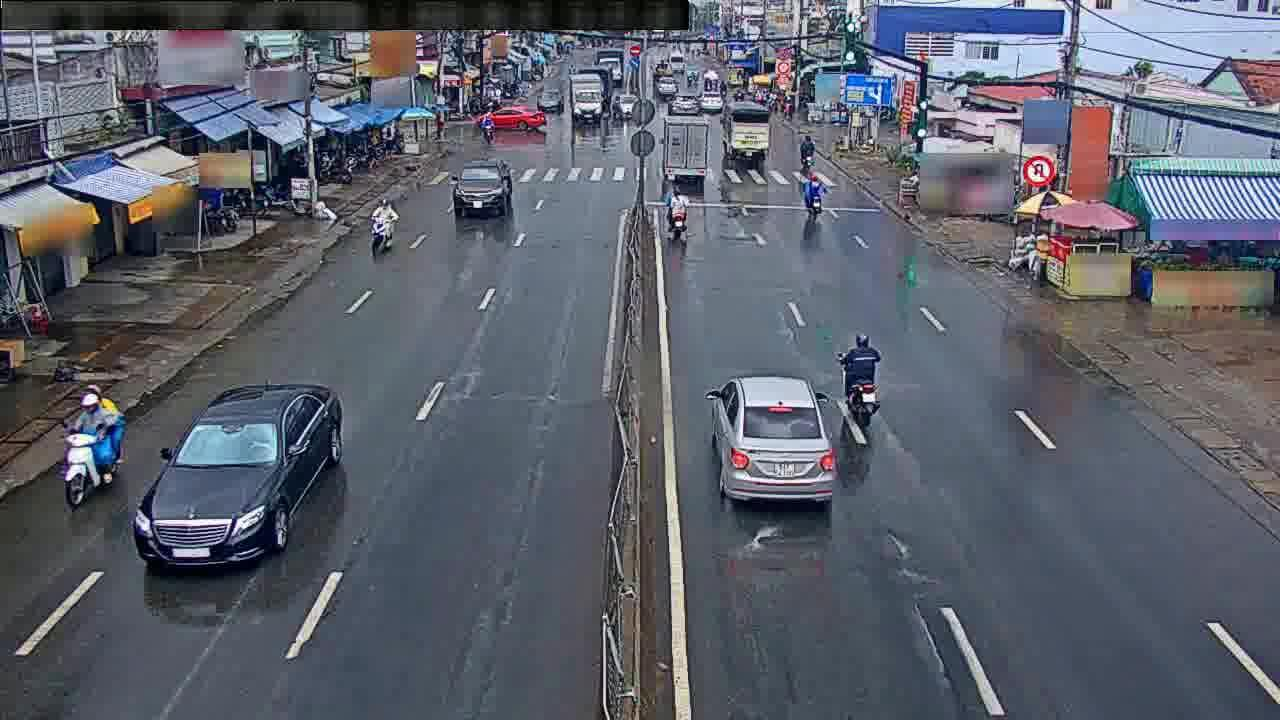8: (664, 113, 711, 188), (724, 102, 772, 160)
container: (128, 378, 347, 573), (703, 371, 835, 513), (451, 158, 514, 216), (476, 103, 547, 134), (663, 90, 705, 123), (609, 91, 643, 123), (534, 87, 566, 114), (696, 88, 726, 115), (653, 74, 682, 100)
motorbike: (54, 390, 133, 504), (834, 329, 885, 422), (360, 195, 409, 259), (658, 189, 695, 240), (801, 166, 830, 221), (478, 109, 498, 147), (800, 132, 816, 170)
